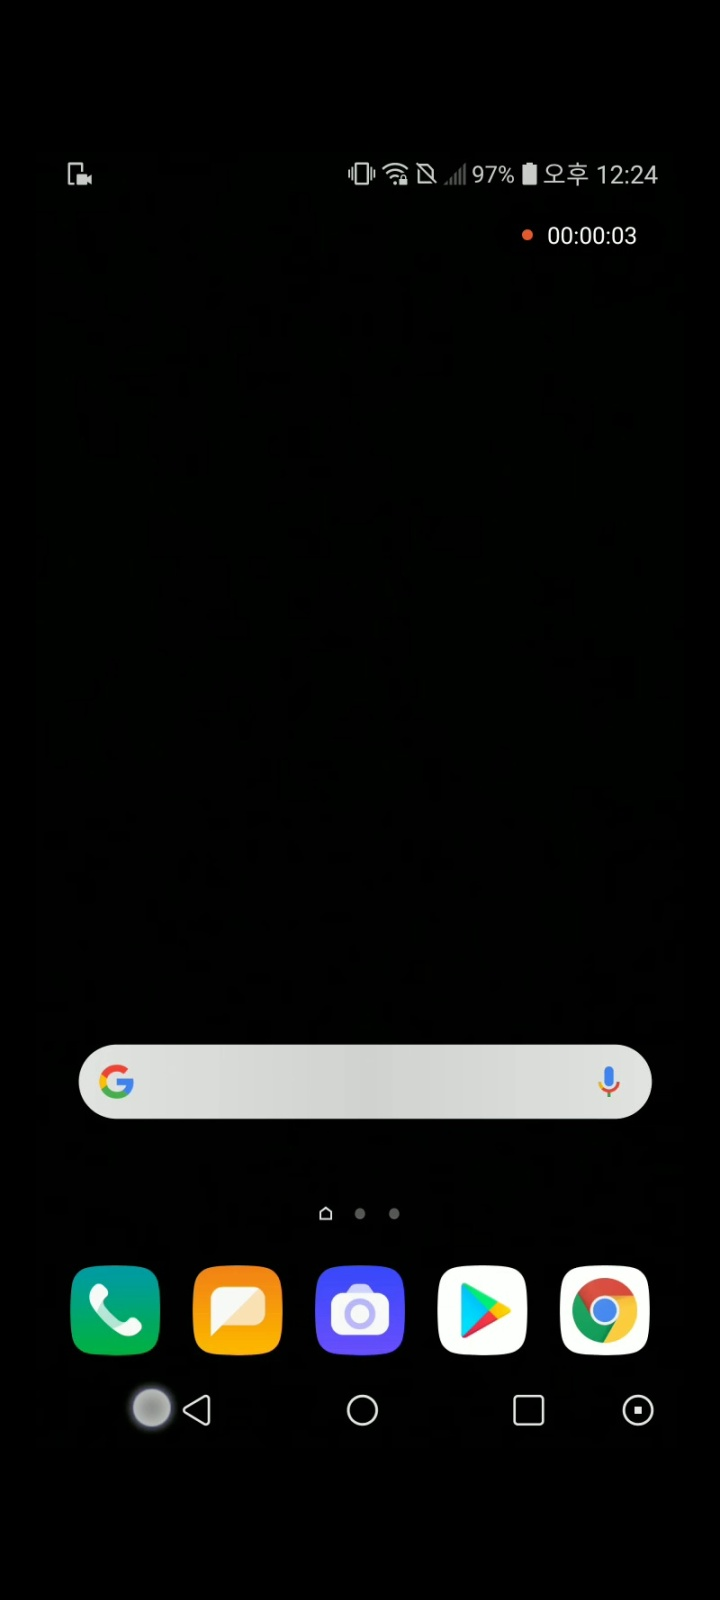Cursor: (128, 1388, 174, 1433)
